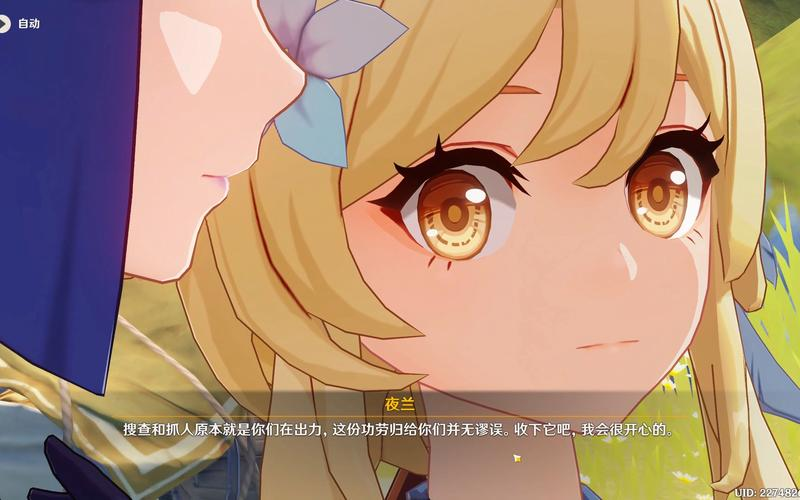夜兰: (1, 1, 309, 500)
